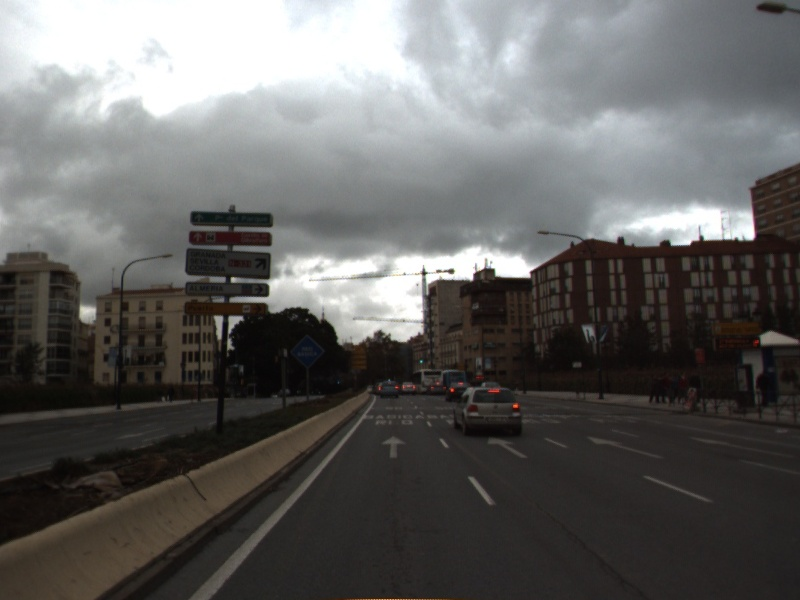STRAIGHT: (687, 434, 798, 460), (585, 434, 668, 461), (484, 434, 531, 460), (378, 434, 410, 460)
